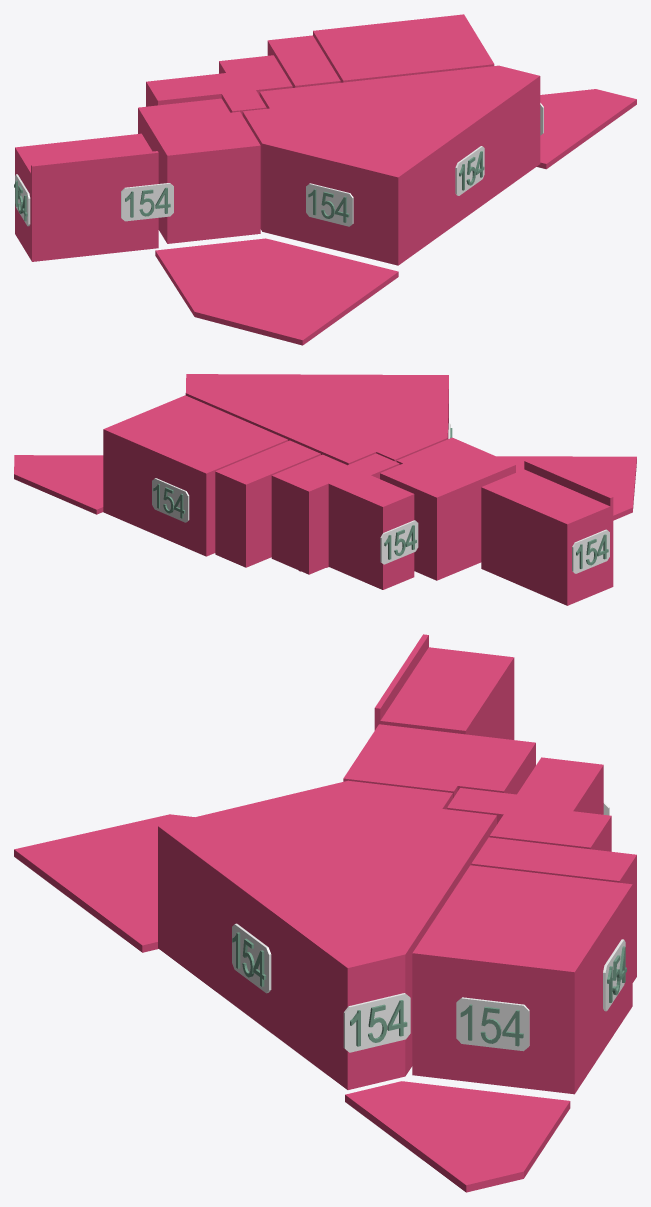
The picture shows the model from 3 angles, top to bottom: view 1: azimuth 30°, elevation 25°; view 2: azimuth 150°, elevation 25°; view 3: azimuth 270°, elevation 25°; orthographic projection. The views are drawn at different scales.
Visible parts, largest first — view 1: g_0, g_6, g_5, g_4, g_1, g_3, g_7, g_2, g_19, g_15, g_35; view 2: g_0, g_1, g_3, g_5, g_4, g_2, g_7, g_6, g_31, g_23, g_27; view 3: g_0, g_1, g_7, g_6, g_5, g_4, g_3, g_2, g_11, g_39, g_35.
Boxes of the visible parts, <box> form: g_0: <box>242,65,540,265</box>; g_6: <box>155,238,398,345</box>; g_5: <box>15,133,158,261</box>; g_4: <box>138,98,260,243</box>; g_1: <box>313,14,494,82</box>; g_3: <box>146,55,292,115</box>; g_7: <box>536,89,636,169</box>; g_2: <box>267,35,340,87</box>; g_19: <box>121,183,173,221</box>; g_15: <box>306,183,353,226</box>; g_35: <box>455,146,484,195</box>; g_0: <box>185,374,448,465</box>; g_1: <box>103,395,288,556</box>; g_3: <box>271,453,414,589</box>; g_5: <box>481,460,613,605</box>; g_4: <box>380,437,515,580</box>; g_2: <box>215,440,320,567</box>; g_7: <box>14,455,103,514</box>; g_6: <box>496,456,636,520</box>; g_31: <box>572,529,609,573</box>; g_23: <box>152,478,189,522</box>; g_27: <box>380,520,418,564</box>; g_0: <box>158,780,496,1089</box>; g_1: <box>412,865,632,1094</box>; g_7: <box>345,1081,570,1192</box>; g_6: <box>14,814,194,952</box>; g_5: <box>374,634,514,739</box>; g_4: <box>343,724,535,798</box>; g_3: <box>447,757,611,851</box>; g_2: <box>471,837,636,982</box>; g_11: <box>456,997,529,1051</box>; g_39: <box>343,993,410,1052</box>; g_35: <box>232,923,271,993</box>.
Size of the model in its own units: 18.38 by 2.85 by 11.54.
